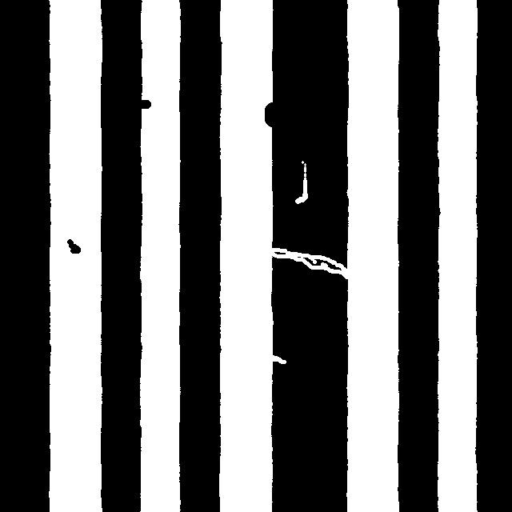copper: (59, 231, 88, 261)
mousebite: (257, 347, 294, 371)
open: (260, 238, 358, 286)
pin-hole: (287, 153, 315, 211)
spur: (257, 94, 289, 134), (127, 92, 158, 116)
